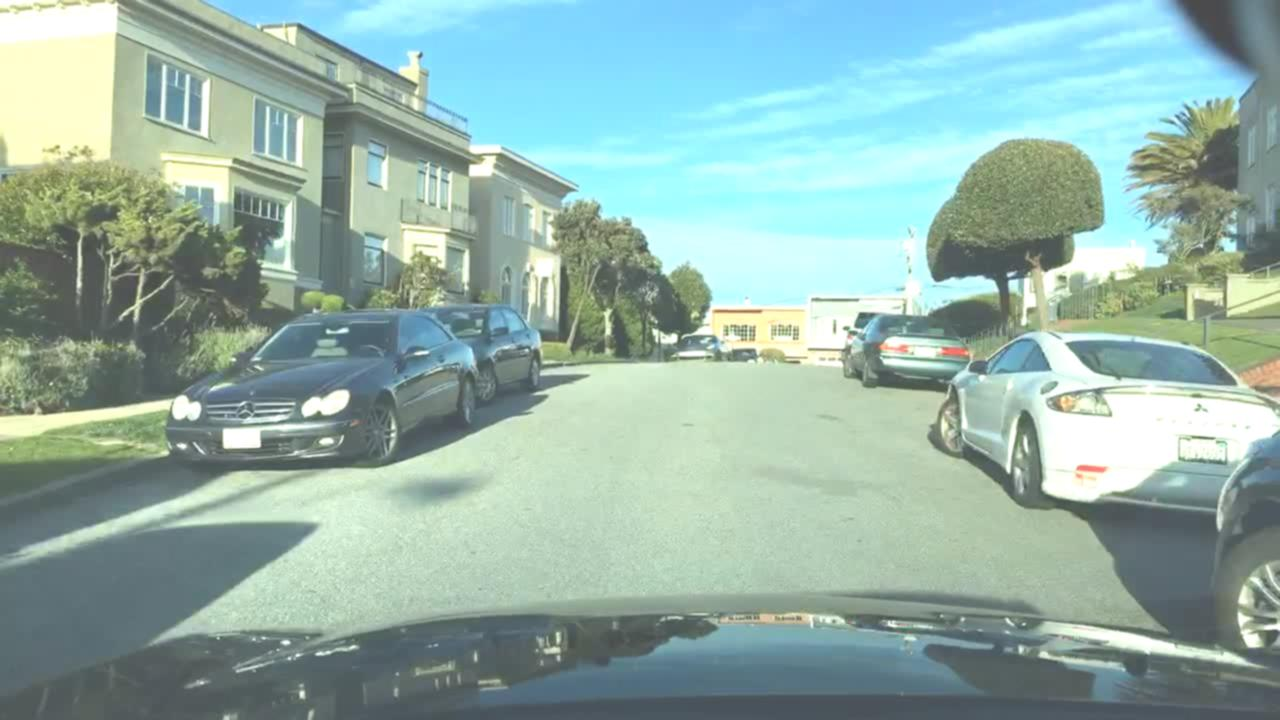Mercedes: (231, 399, 259, 424)
Mitsubishi: (1190, 400, 1215, 419)
